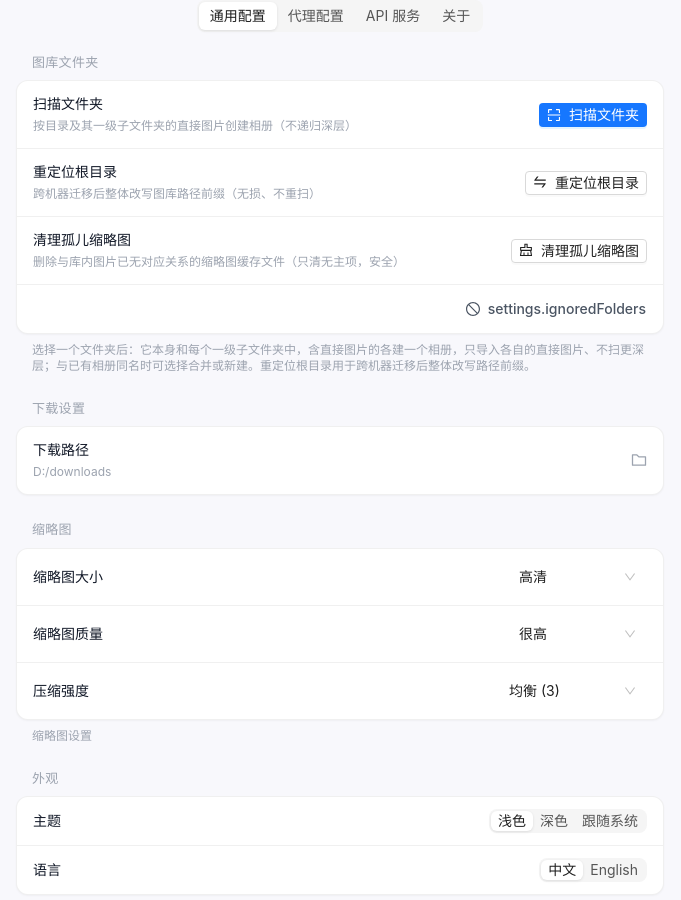
Test: SettingsPage general tab behavior › 保存成功但服务重启失败（syncError）时应提示 warning
Click the text "API 服务" at (393,16), box [366,7,420,24]
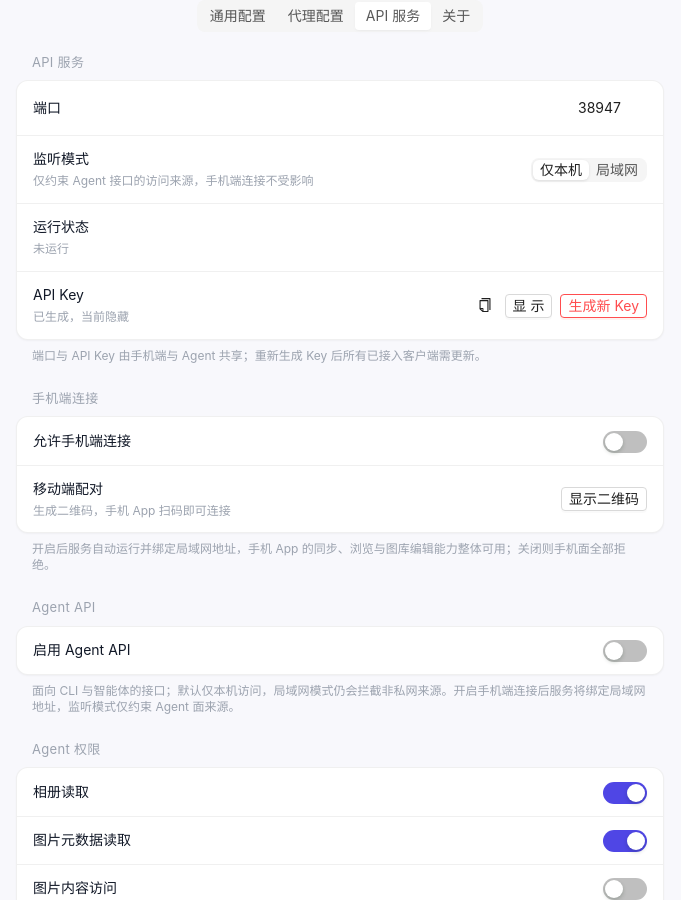
Click the switch in the row of "允许手机端连接" at (625,442), box [603,430,647,452]
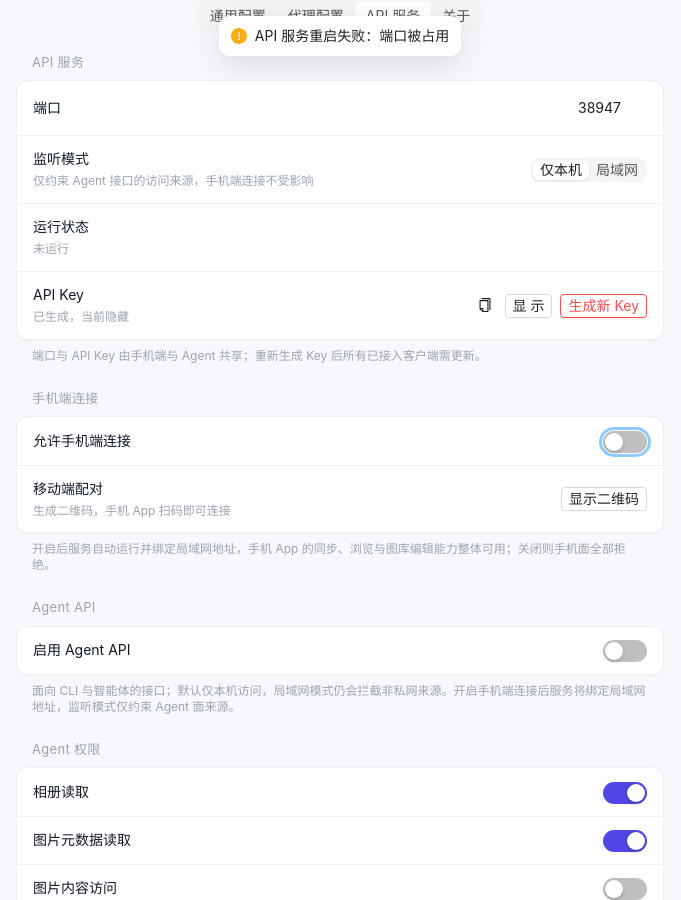
Now the text "API 服务重启失败：端口被占用" is shown, box [255,25,449,47]
